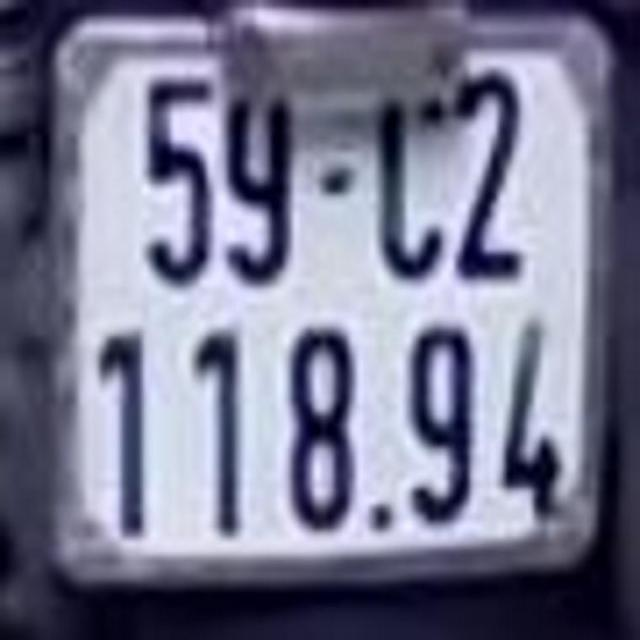1: (86, 322, 166, 544), (184, 320, 260, 542)
2: (452, 52, 525, 286)
4: (496, 314, 564, 537)
5: (136, 70, 218, 290)
8: (284, 310, 359, 540)
9: (407, 305, 481, 529), (221, 73, 294, 290)
C: (375, 50, 449, 281)
